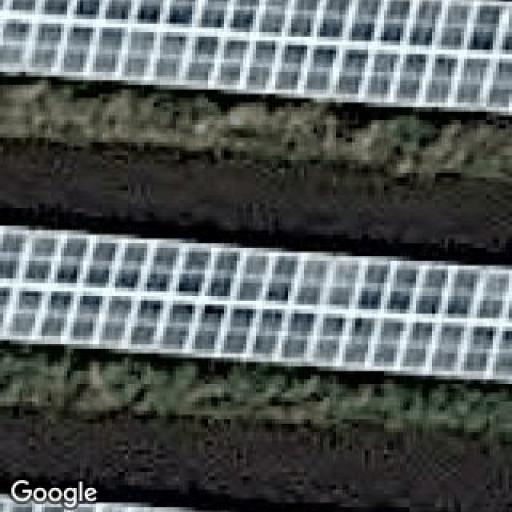solar-panel: (0, 218, 512, 378), (0, 0, 512, 112), (0, 486, 210, 512)
